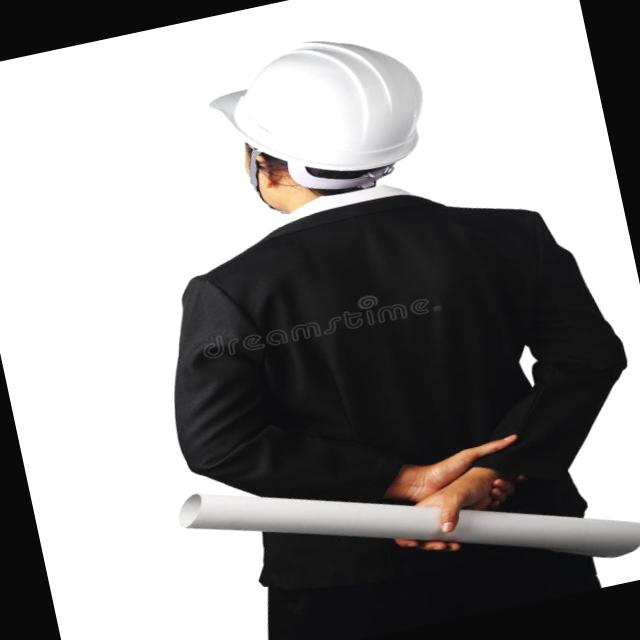helmet: (180, 13, 446, 228)
no-vest: (166, 170, 627, 524)
